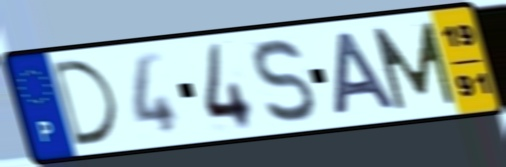4: (202, 40, 256, 132), (129, 51, 183, 138)
A: (330, 29, 402, 118)
D: (47, 57, 121, 149)
M: (368, 19, 459, 113)
S: (251, 36, 319, 126)
